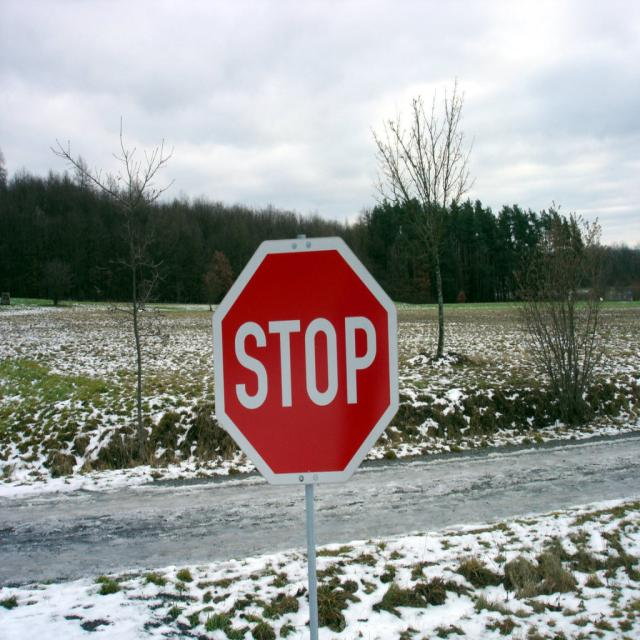Stop-sign: (211, 236, 400, 487)
